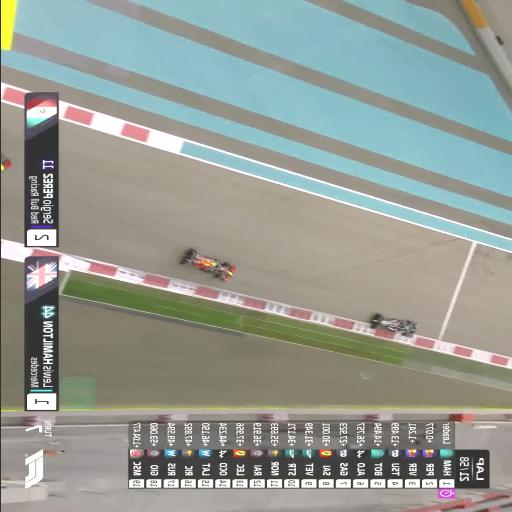f1_car: (180, 249, 236, 282), (371, 314, 416, 338)
